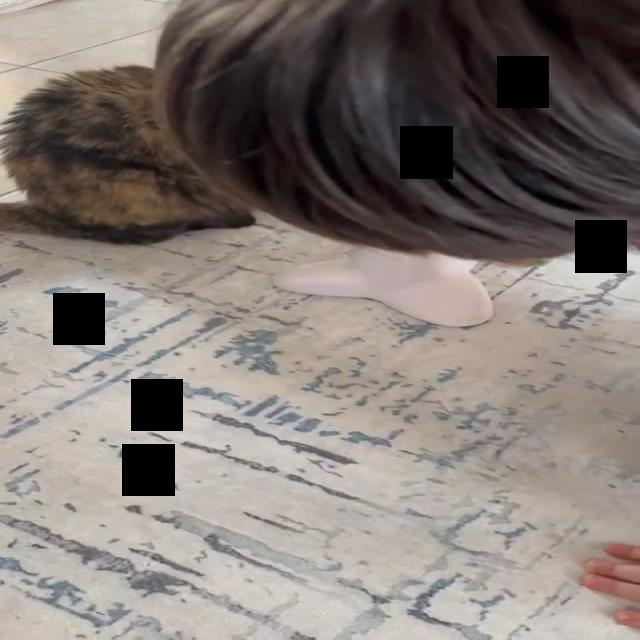authorized: (0, 64, 256, 245)
